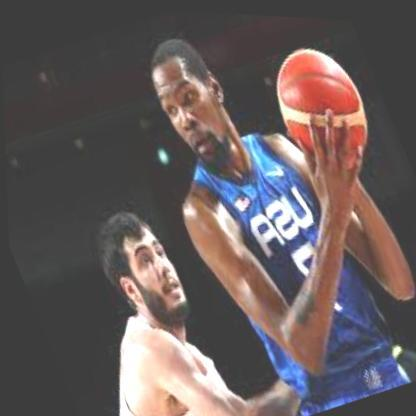basketball: (259, 30, 380, 172)
